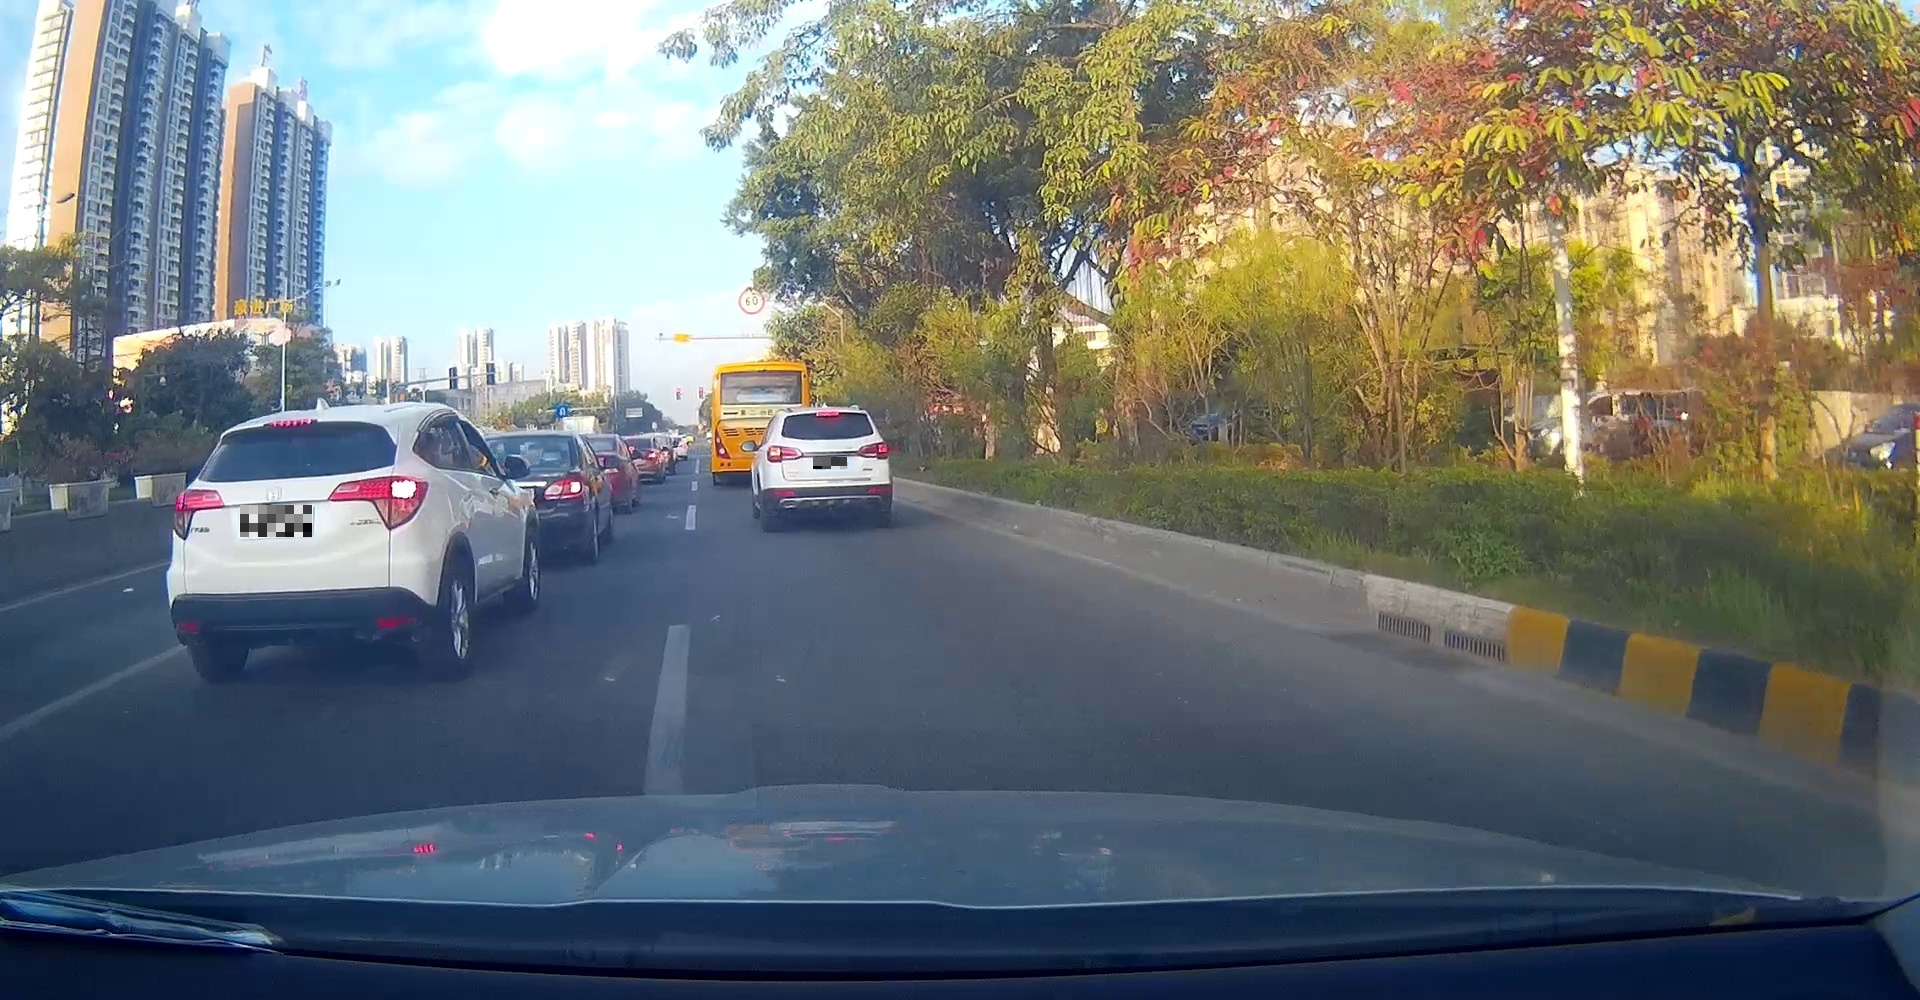L_light: (171, 487, 225, 539), (767, 445, 803, 463)
R_light: (328, 475, 430, 530), (858, 442, 890, 459)
T_light: (269, 419, 312, 428), (817, 411, 839, 418)
day-brake: (165, 404, 430, 681), (767, 406, 891, 530)
plate_1: (240, 505, 312, 537)
plate_2: (813, 457, 847, 470)
